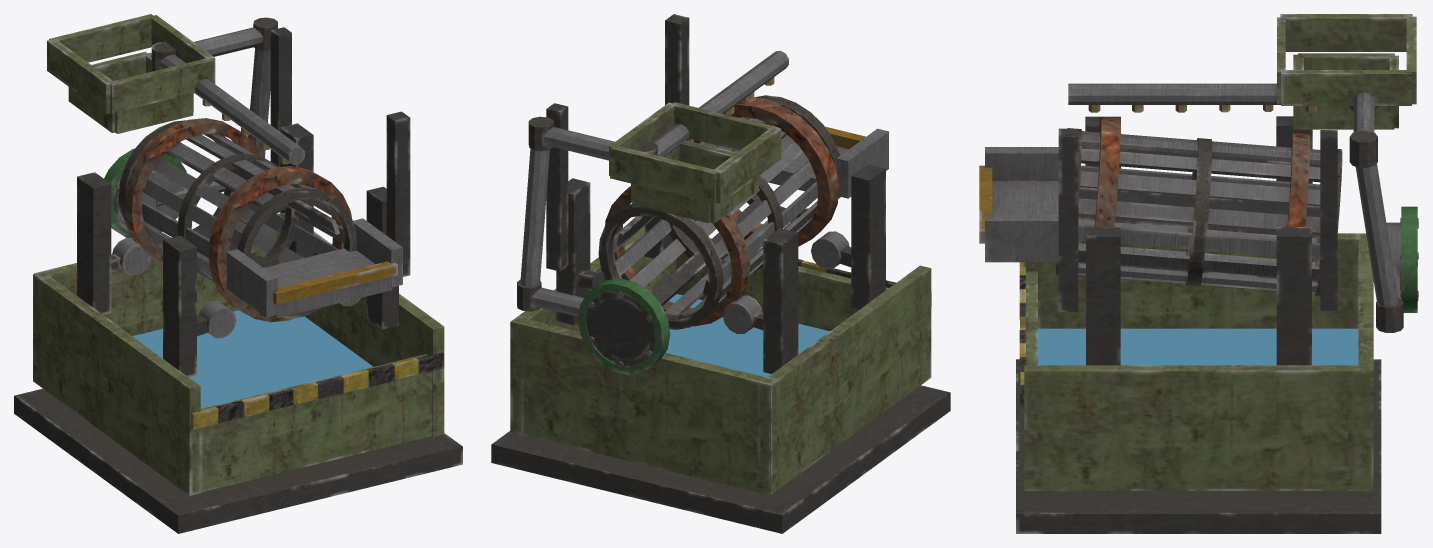
Rendered from feWasher_HD.fbx.
3 views of the same model, side by side, from view 1: azimuth 30°, elevation 25°; view 2: azimuth 150°, elevation 25°; view 3: azimuth 270°, elevation 25° (orthographic). The views are drawn at different scales.
Parts seen in each view (by area): view 1: feWasher_Base, FeWorkSpin_x0.5_Trommel, FeSurface_r0.10_Water; view 2: feWasher_Base, FeWorkSpin_x0.5_Trommel, FeSurface_r0.10_Water; view 3: feWasher_Base, FeWorkSpin_x0.5_Trommel, FeSurface_r0.10_Water.
Part boxes in pixels (left/top/right/bottom): feWasher_Base: left=14, top=14, right=462, bottom=533; FeWorkSpin_x0.5_Trommel: left=118, top=118, right=356, bottom=322; FeSurface_r0.10_Water: left=132, top=310, right=373, bottom=408; feWasher_Base: left=491, top=14, right=950, bottom=533; FeWorkSpin_x0.5_Trommel: left=598, top=95, right=839, bottom=329; FeSurface_r0.10_Water: left=665, top=294, right=829, bottom=377; feWasher_Base: left=979, top=14, right=1418, bottom=533; FeWorkSpin_x0.5_Trommel: left=1055, top=117, right=1342, bottom=296; FeSurface_r0.10_Water: left=1038, top=328, right=1358, bottom=365.
Size of the model in its own units: 0.8412 by 0.993 by 1.01.
Materials: 2 (1 with a texture image).
